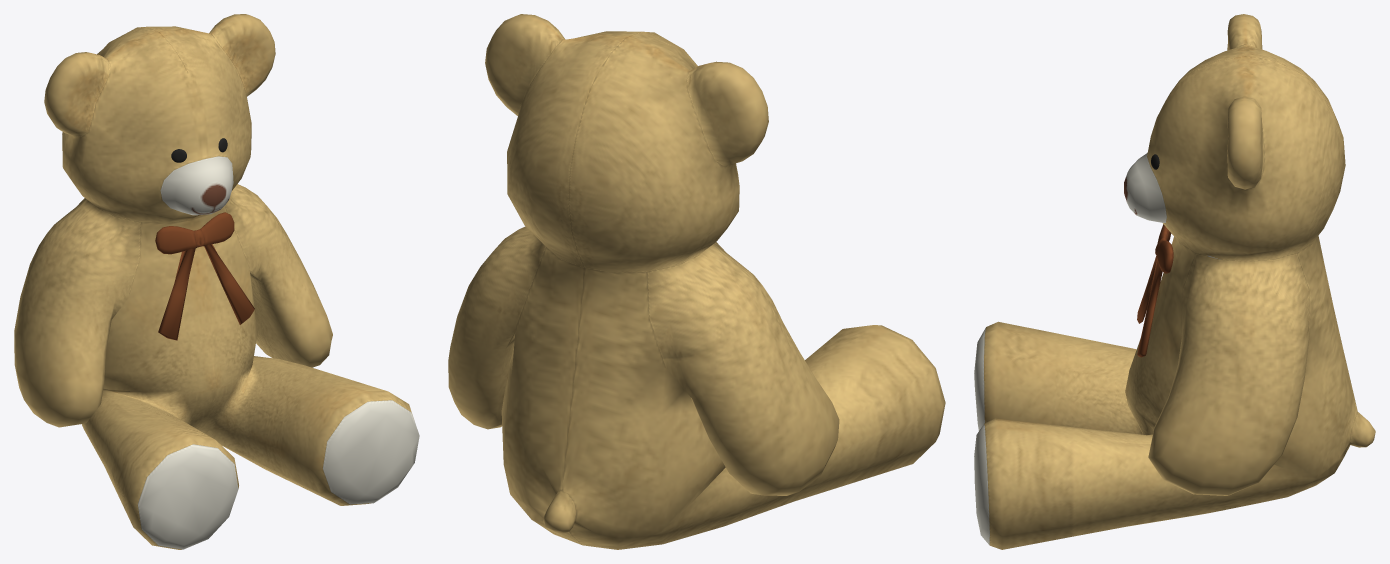
File: teddybear.glb
3 renders of one model, left to right at view 1: azimuth 30°, elevation 25°; view 2: azimuth 150°, elevation 25°; view 3: azimuth 270°, elevation 25°, orthographic. The views are drawn at different scales.
Parts seen in each view (by area): view 1: Teddy Bear; view 2: Teddy Bear; view 3: Teddy Bear.
Part boxes in pixels (x1=…): Teddy Bear: x1=14, y1=14, x2=419, y2=549; Teddy Bear: x1=448, y1=14, x2=945, y2=549; Teddy Bear: x1=974, y1=14, x2=1375, y2=549.
Size of the model in its own units: 0.5041 by 0.6858 by 0.5651.
Materials: 1 (1 with a texture image).
